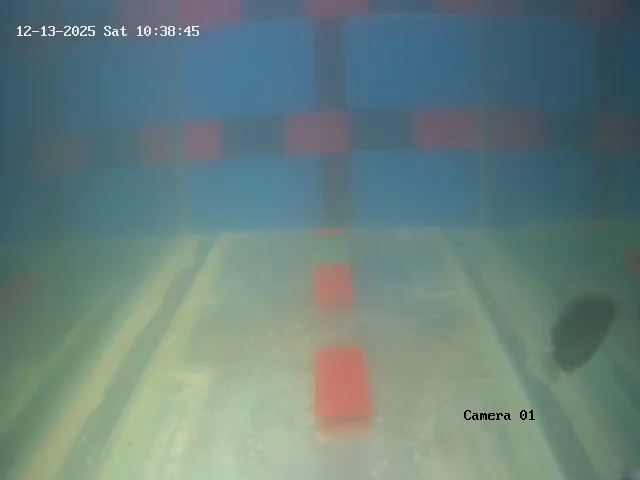fish: (550, 283, 613, 370)
